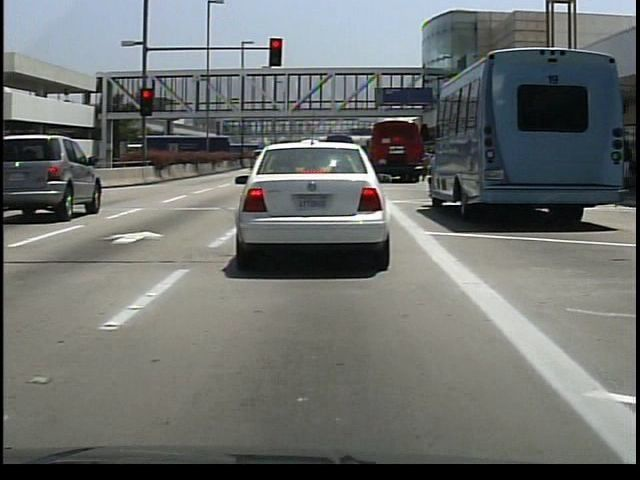person: (422, 140, 434, 181), (623, 145, 629, 193)
